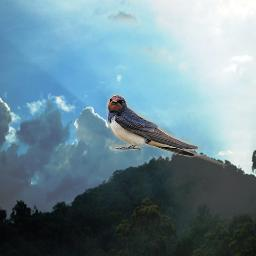Swallow: (106, 93, 227, 166)
